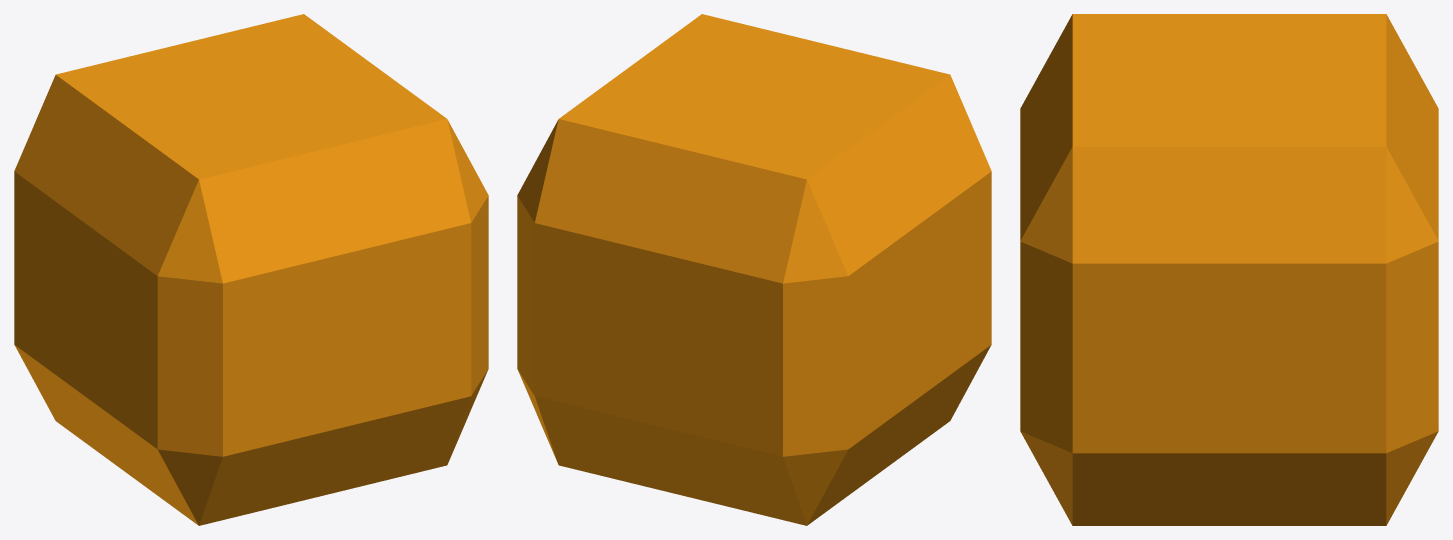
File: ember.obj
3 renders of one model, left to right at view 1: azimuth 30°, elevation 25°; view 2: azimuth 150°, elevation 25°; view 3: azimuth 270°, elevation 25°, orthographic. The views are drawn at different scales.
Visible parts, largest first — view 1: beveled_cuboid; view 2: beveled_cuboid; view 3: beveled_cuboid.
Boxes of the visible parts, box(x1,y1,x2,y2) form: beveled_cuboid: box(14, 14, 488, 525); beveled_cuboid: box(517, 14, 991, 525); beveled_cuboid: box(1020, 14, 1438, 525).
Bounding box in the file's own units: 0.375 × 0.375 × 0.375.
Materials: 1 (1 with a texture image).
